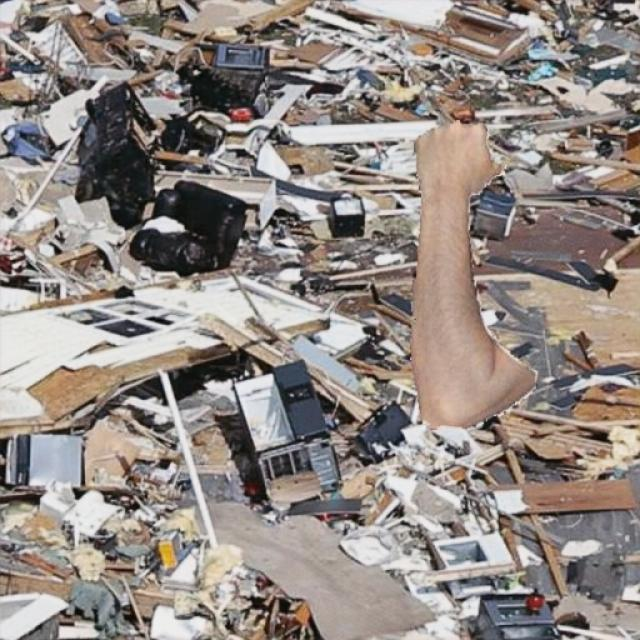Person in Rubble: (410, 120, 536, 429)
